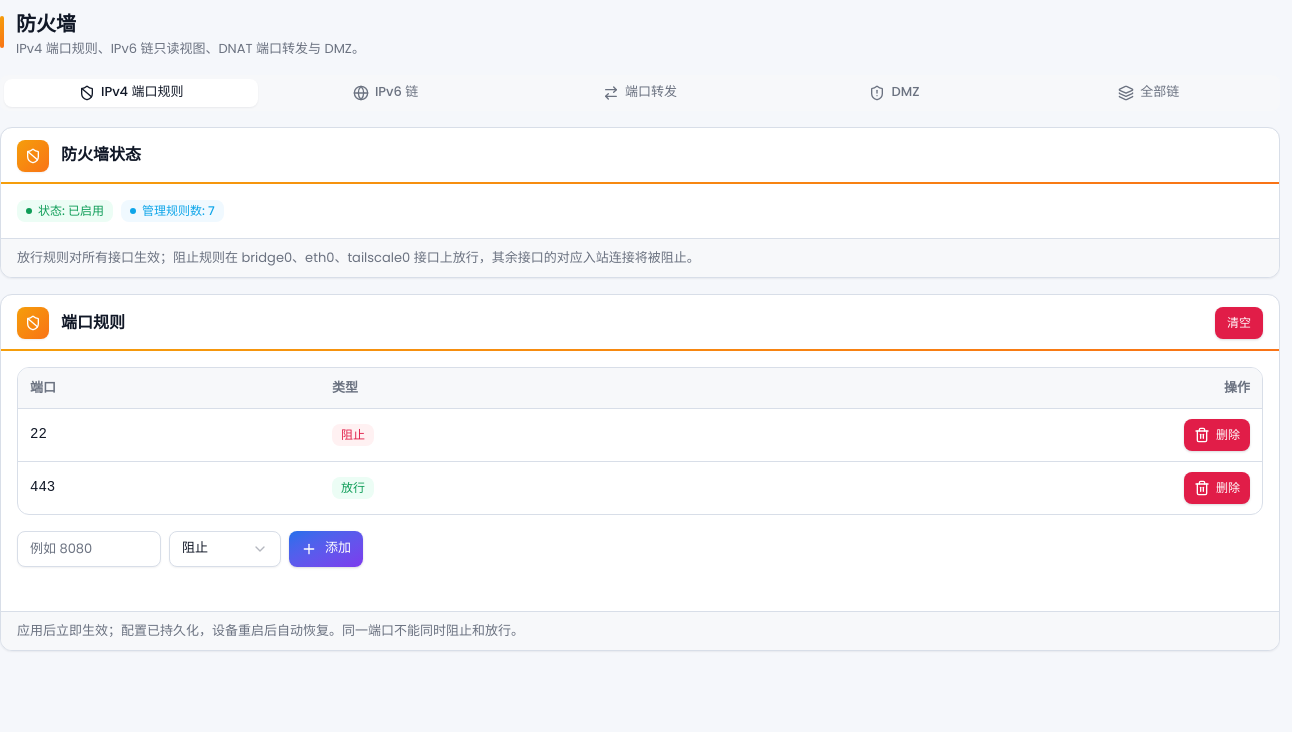
it: FirewallPage 组件 › 非法端口新增被前端拦截,不产生脏更改
Expected: the cell "22" is shown, 18,408 -> 320,461
Type "99999" into the field named "端口" at (89, 549), box 17,531 -> 161,567
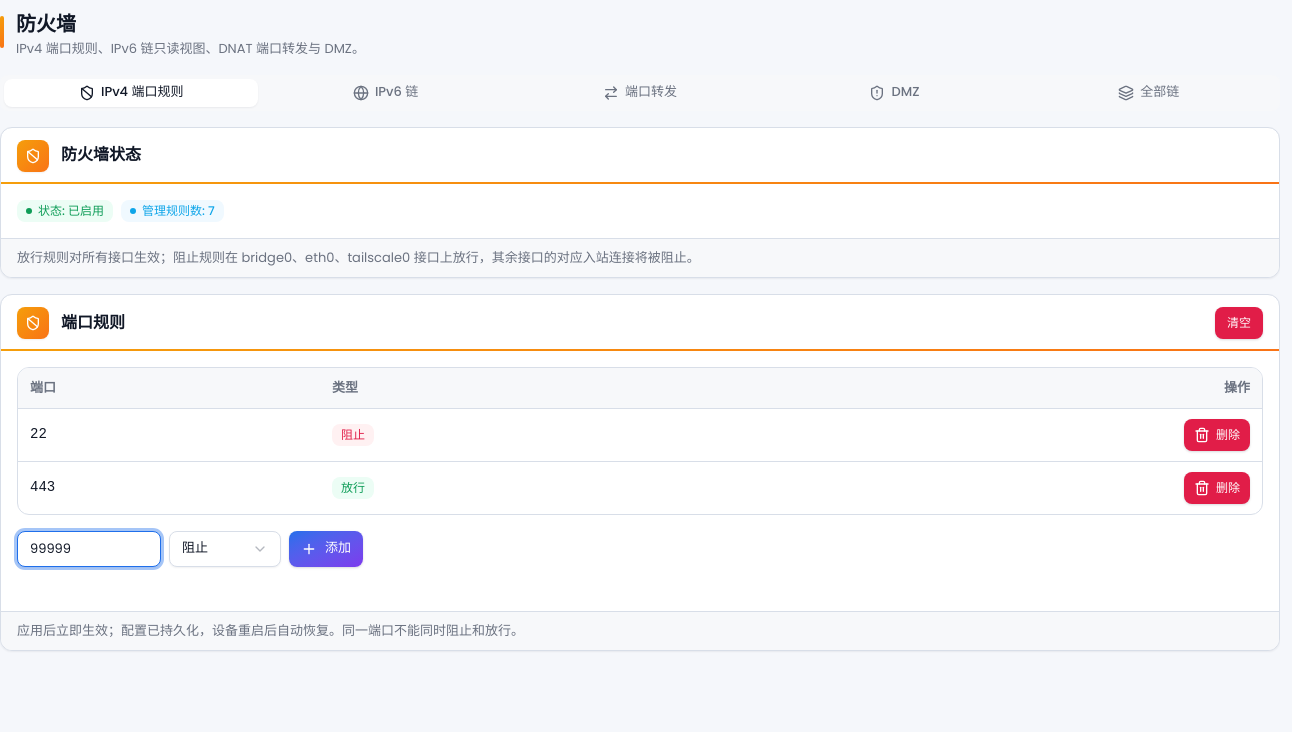
Click the button "添加" at (326, 549), box 289,531 -> 363,567
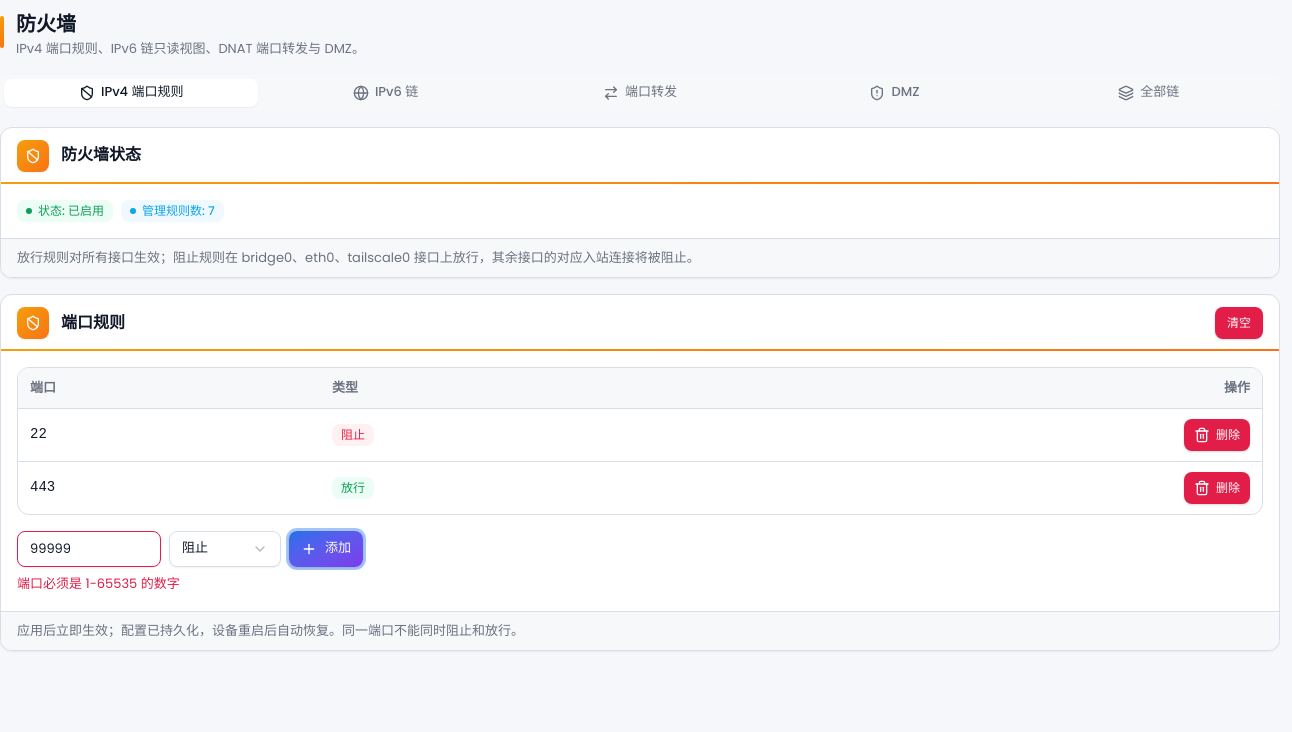
Expected: the text "端口必须是 1-65535 的数字" is shown, 17,574 -> 180,593
